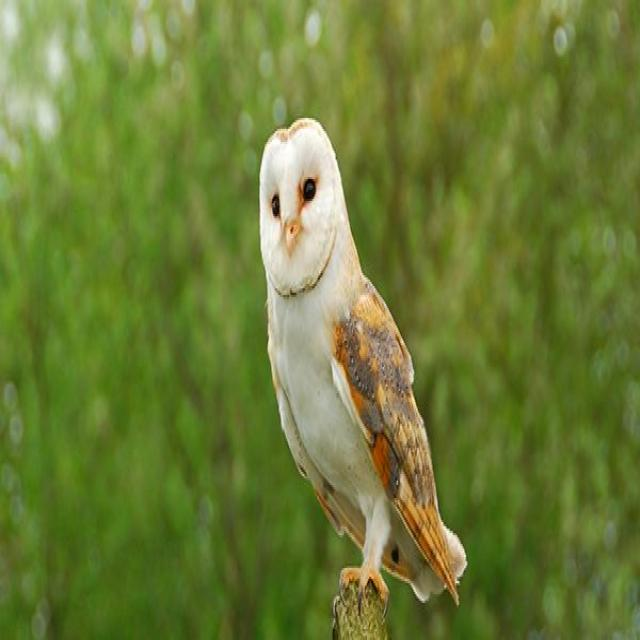owl: (259, 118, 466, 612)
